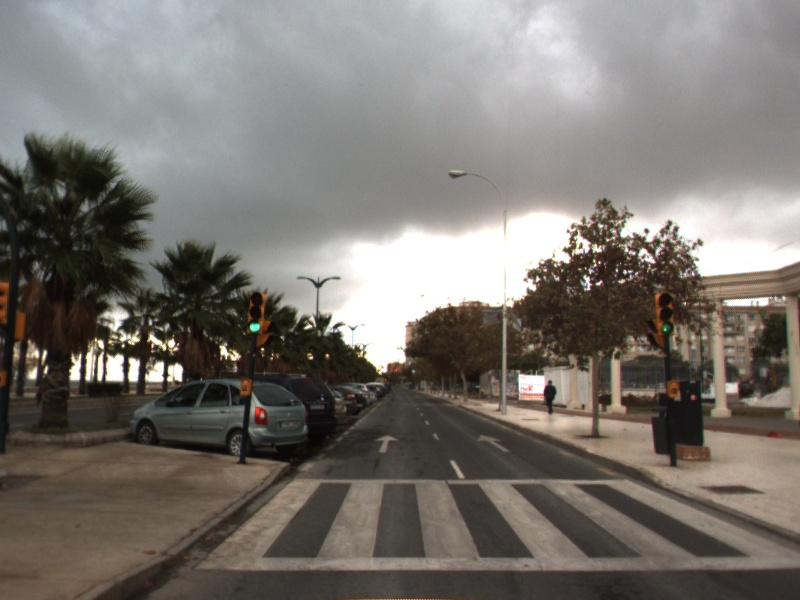STRAIGHT: (475, 432, 513, 454), (372, 433, 401, 454)
